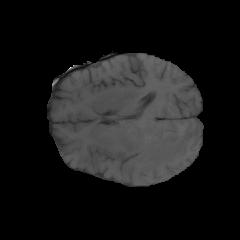glioma: (123, 123, 197, 171)
